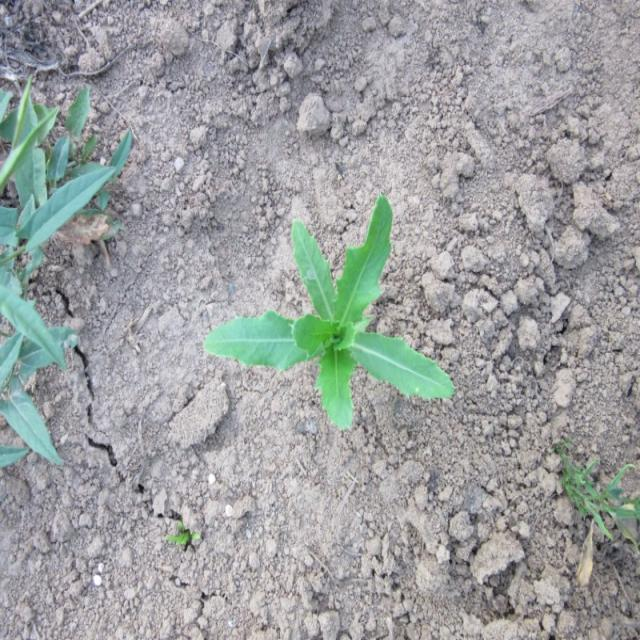cs: (196, 196, 461, 438)
